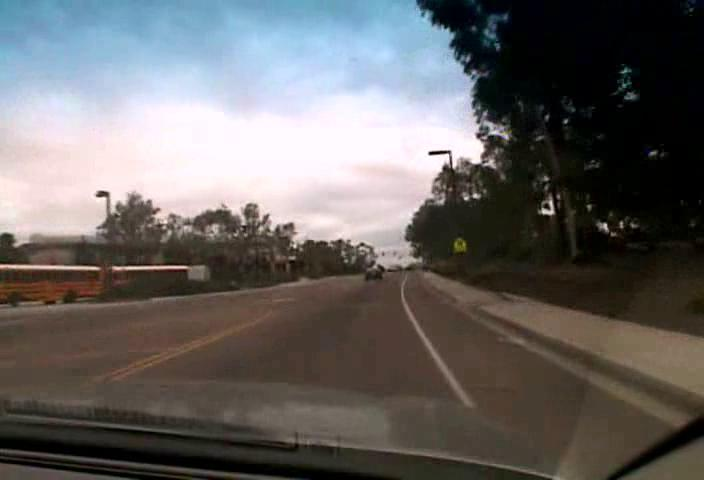school: (453, 237, 467, 249)
